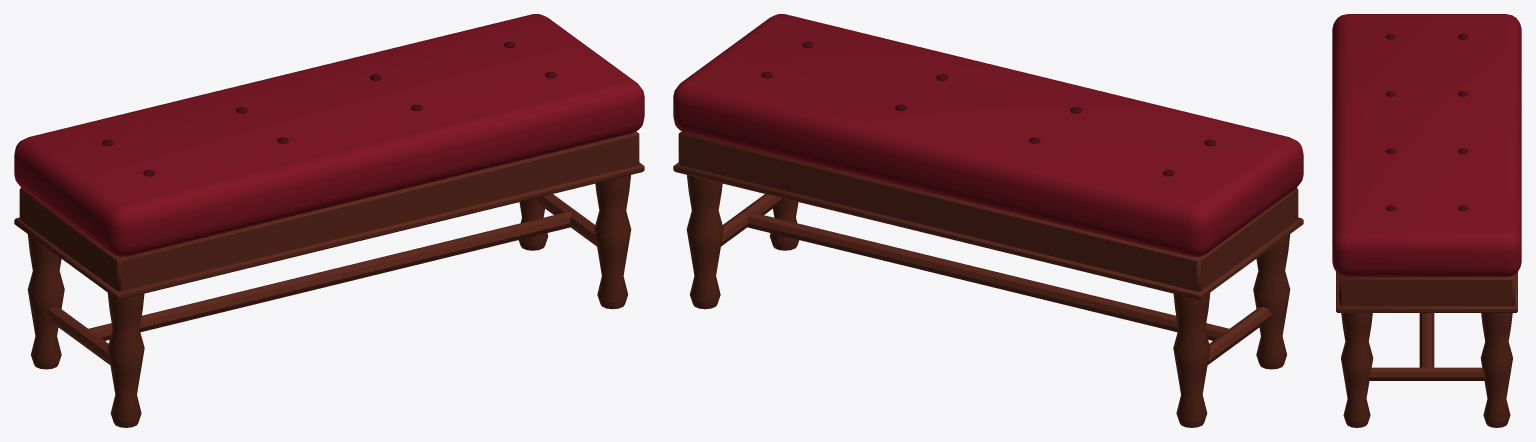
Rendered from Bench.glb.
3 views of the same model, side by side, from view 1: azimuth 30°, elevation 25°; view 2: azimuth 150°, elevation 25°; view 3: azimuth 270°, elevation 25° (orthographic). The views are drawn at different scales.
Parts seen in each view (by area): view 1: Bench_Seat, Bench_Body; view 2: Bench_Seat, Bench_Body; view 3: Bench_Seat, Bench_Body, Bench_Buttons.
Part boxes in pixels (x1=…): Bench_Seat: x1=14, y1=14, x2=644, y2=257; Bench_Body: x1=14, y1=131, x2=644, y2=427; Bench_Seat: x1=673, y1=14, x2=1303, y2=257; Bench_Body: x1=673, y1=131, x2=1303, y2=427; Bench_Seat: x1=1332, y1=14, x2=1521, y2=277; Bench_Body: x1=1336, y1=272, x2=1517, y2=427; Bench_Buttons: x1=1385, y1=33, x2=1468, y2=210.
Bounding box in the file's own units: 1.2 × 0.487 × 0.42.
